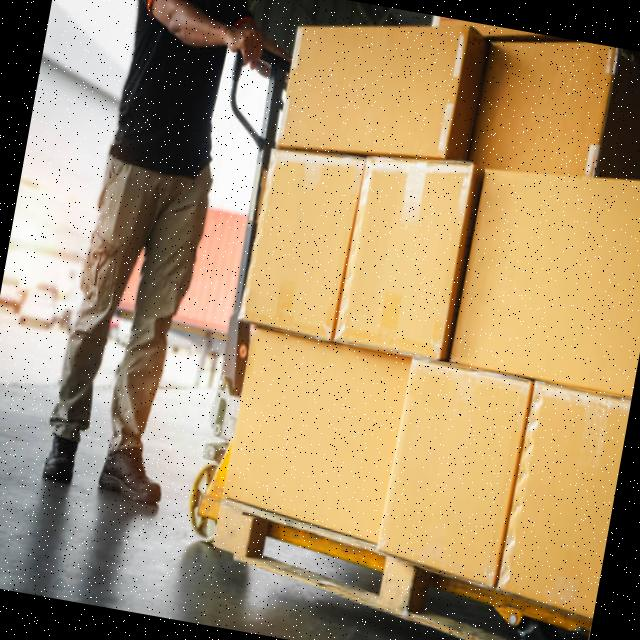Wooden-Pallets: (209, 495, 586, 640)
